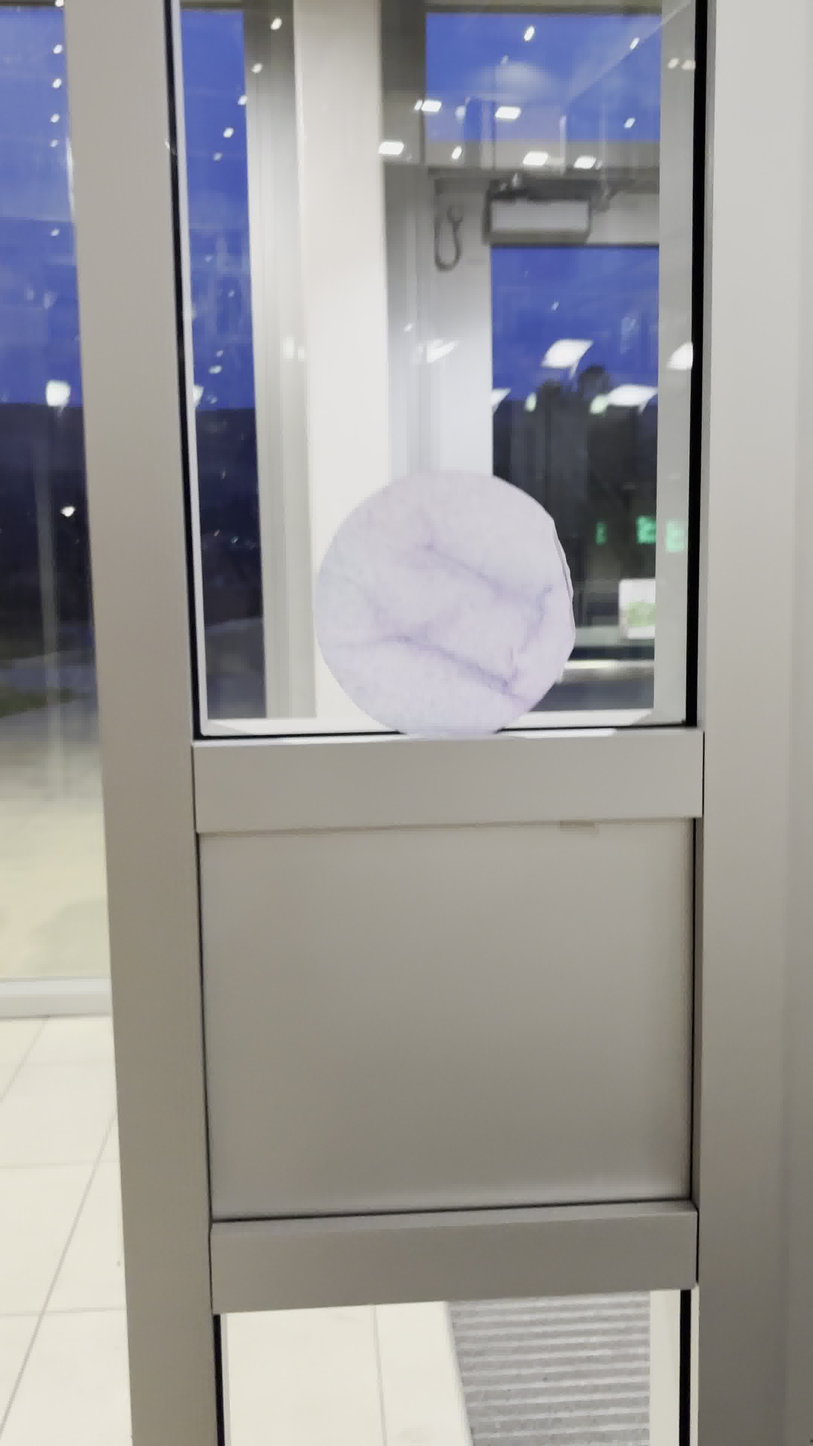Target: (316, 473, 576, 739)
